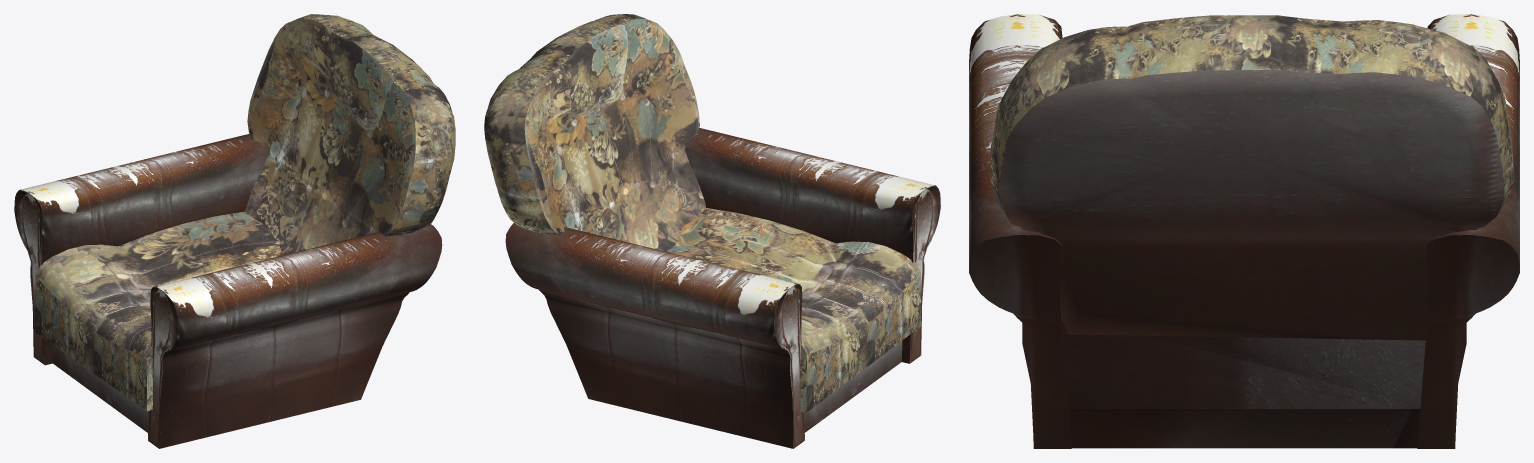
Rendered from armchair.fbx.
3 views of the same model, side by side, from view 1: azimuth 30°, elevation 25°; view 2: azimuth 150°, elevation 25°; view 3: azimuth 270°, elevation 25° (orthographic). The views are drawn at different scales.
Parts seen in each view (by area): view 1: kreslo; view 2: kreslo; view 3: kreslo.
Part boxes in pixels (left/top/right/bottom): kreslo: left=14, top=14, right=455, bottom=448; kreslo: left=484, top=14, right=940, bottom=448; kreslo: left=969, top=14, right=1519, bottom=448.
Bounding box in the file's own units: 80.8 × 71.63 × 73.44.
Materials: 5 (5 with a texture image).
